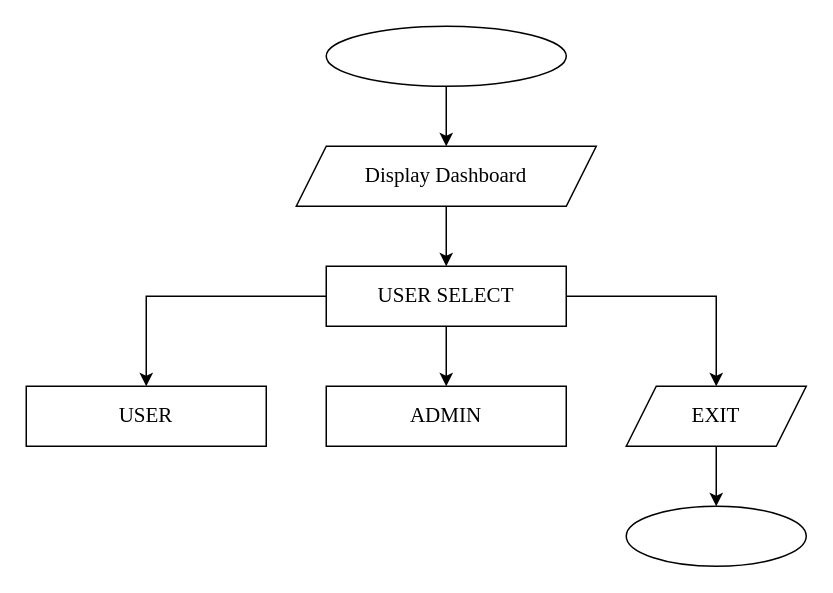
Image size: 833x593. Some labels were removed from this diagram. The shapes that lost their labels are listed below. From the top down, each one's box as (x1, y1, x2, y2) in pixels, then its label:
(325, 25, 566, 86): Start
(625, 505, 806, 566): END
